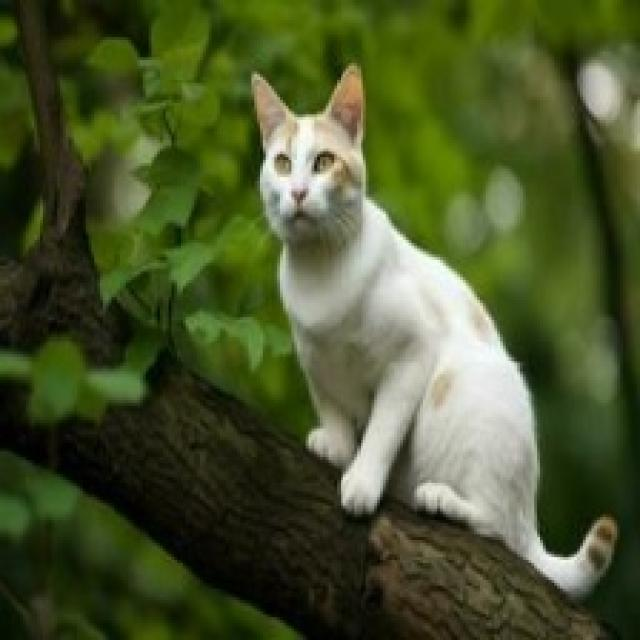animal: (142, 18, 593, 640)
